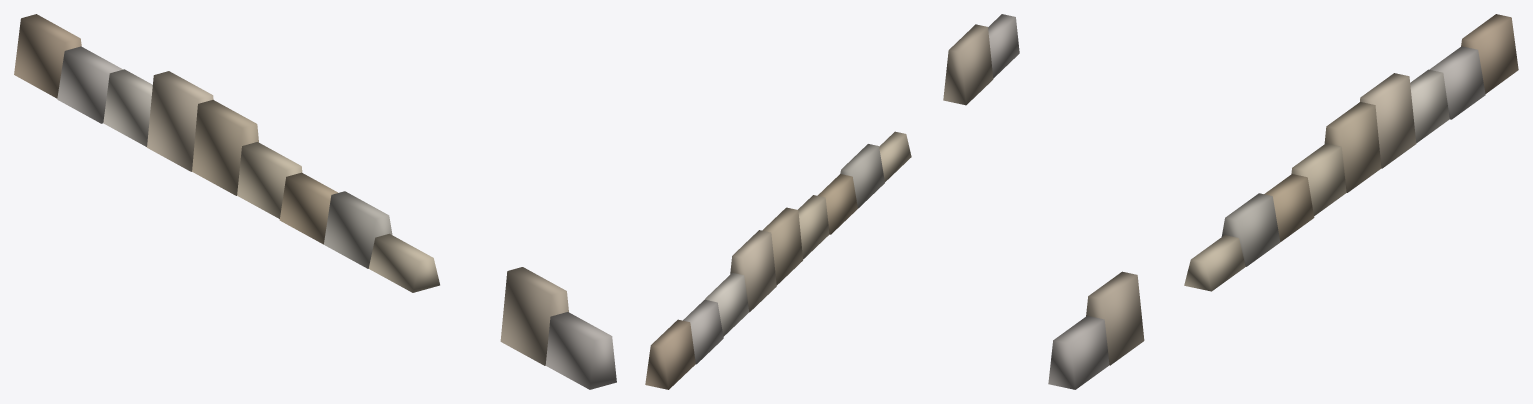
File: farm_-48_-38_collision.glb
The picture shows the model from 3 angles, left to right: view 1: azimuth 30°, elevation 25°; view 2: azimuth 150°, elevation 25°; view 3: azimuth 330°, elevation 25°; orthographic projection. The views are drawn at different scales.
Parts seen in each view (by area): view 1: geometry_0; view 2: geometry_0; view 3: geometry_0.
Boxes of the visible parts, x1,y1,x2,y2 form: geometry_0: [14, 14, 616, 389]; geometry_0: [645, 14, 1019, 389]; geometry_0: [1048, 14, 1518, 389].
Bounding box in the file's own units: 1.86 × 2.6 × 20.72.
